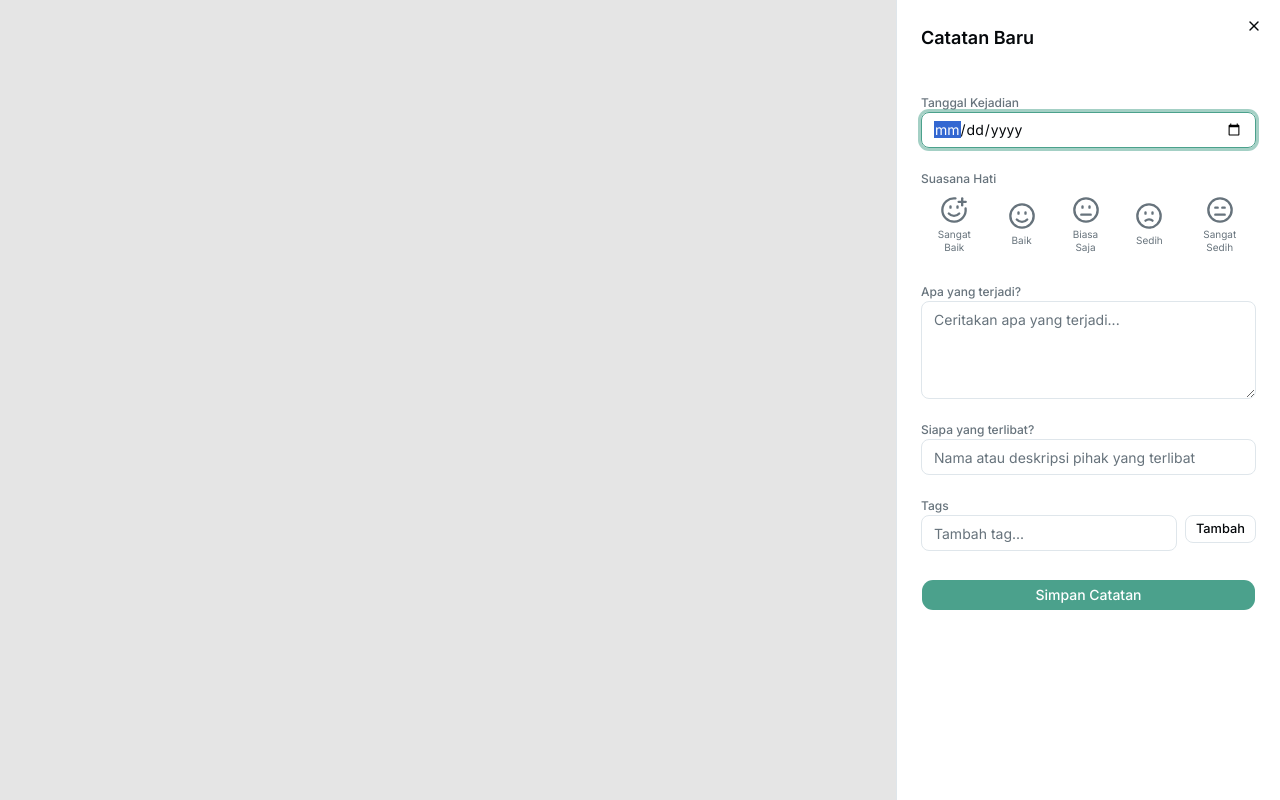
Test: JournalSheet › shows validation error when date is empty on save
This screenshot has width=1280, height=800.
Type "Deskripsi kejadian" into the text box labelled "Apa yang terjadi?".
click(1088, 350); type("Deskripsi kejadian")  # box [921,301,1256,399]
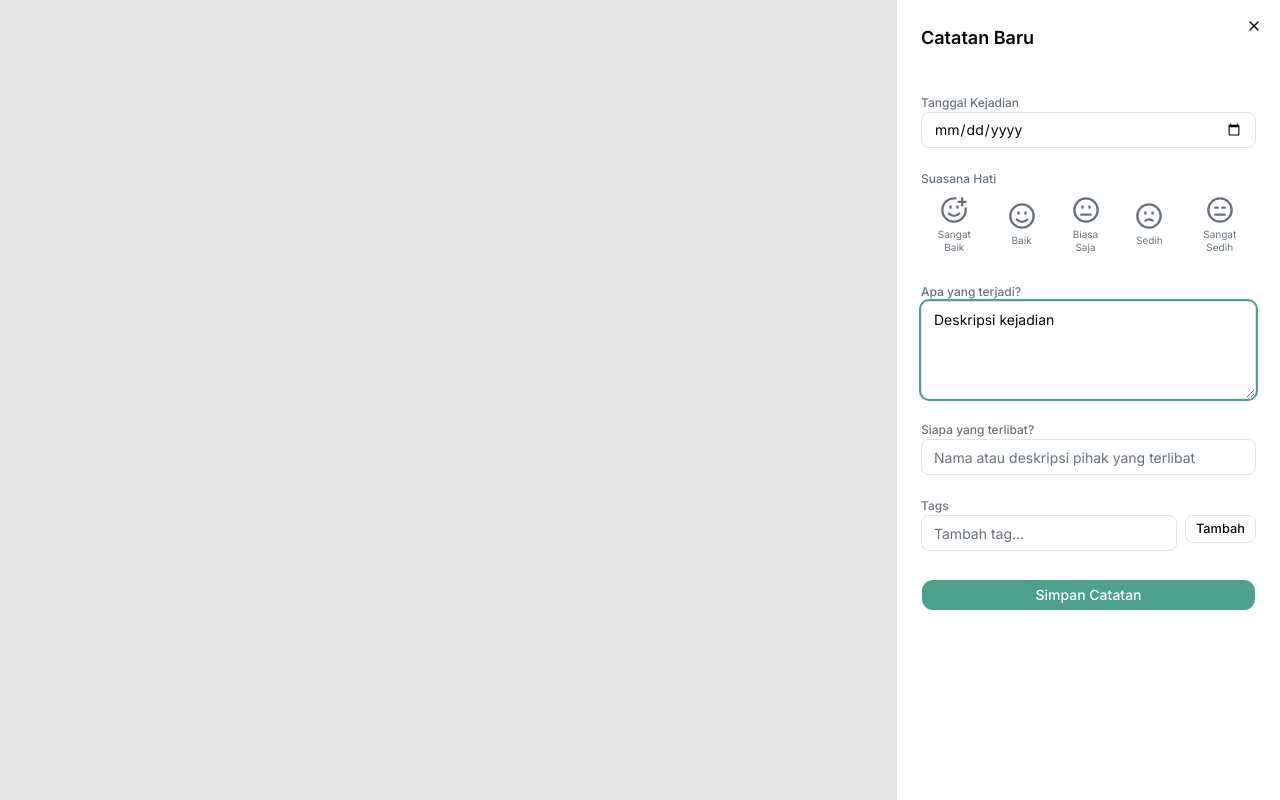
Click the button "Simpan Catatan".
click(1088, 595)  # box [921,579,1256,611]
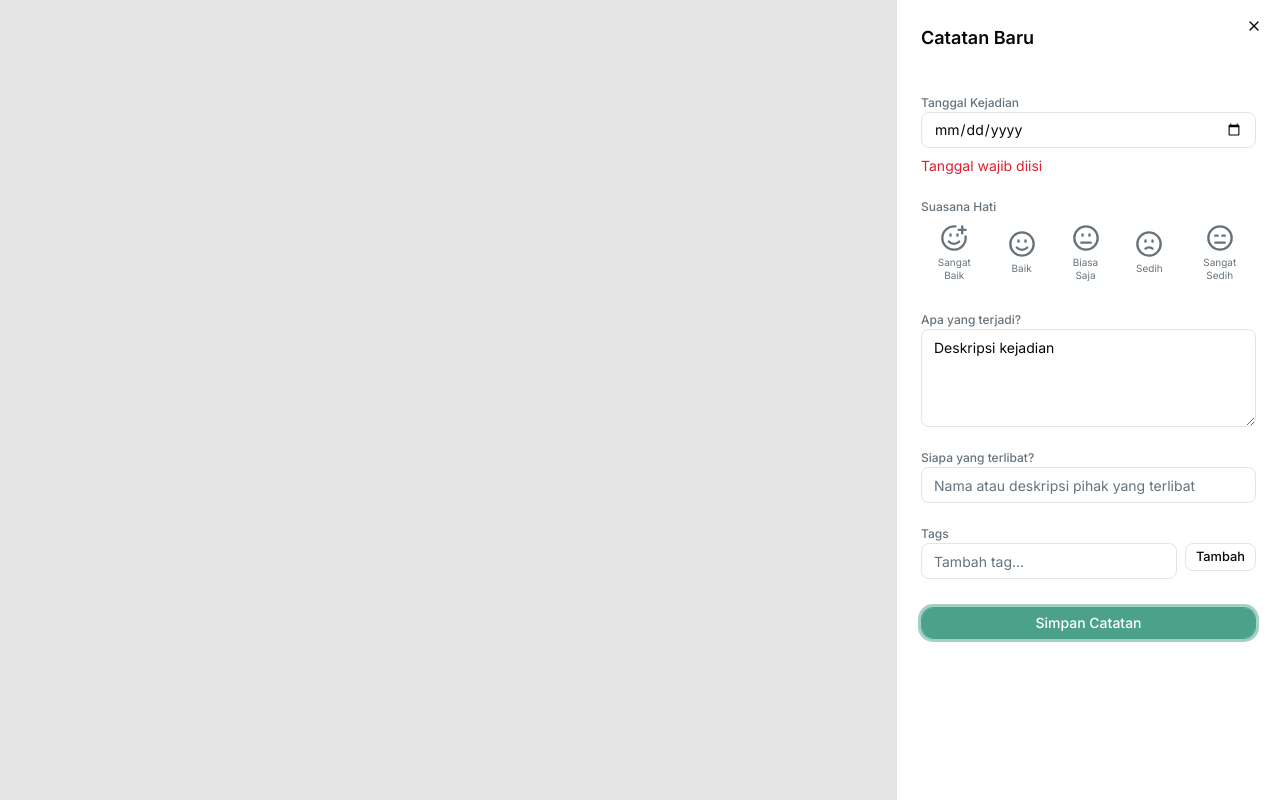
Expected: the text "Tanggal wajib diisi" is shown, [921,157,1042,174]
